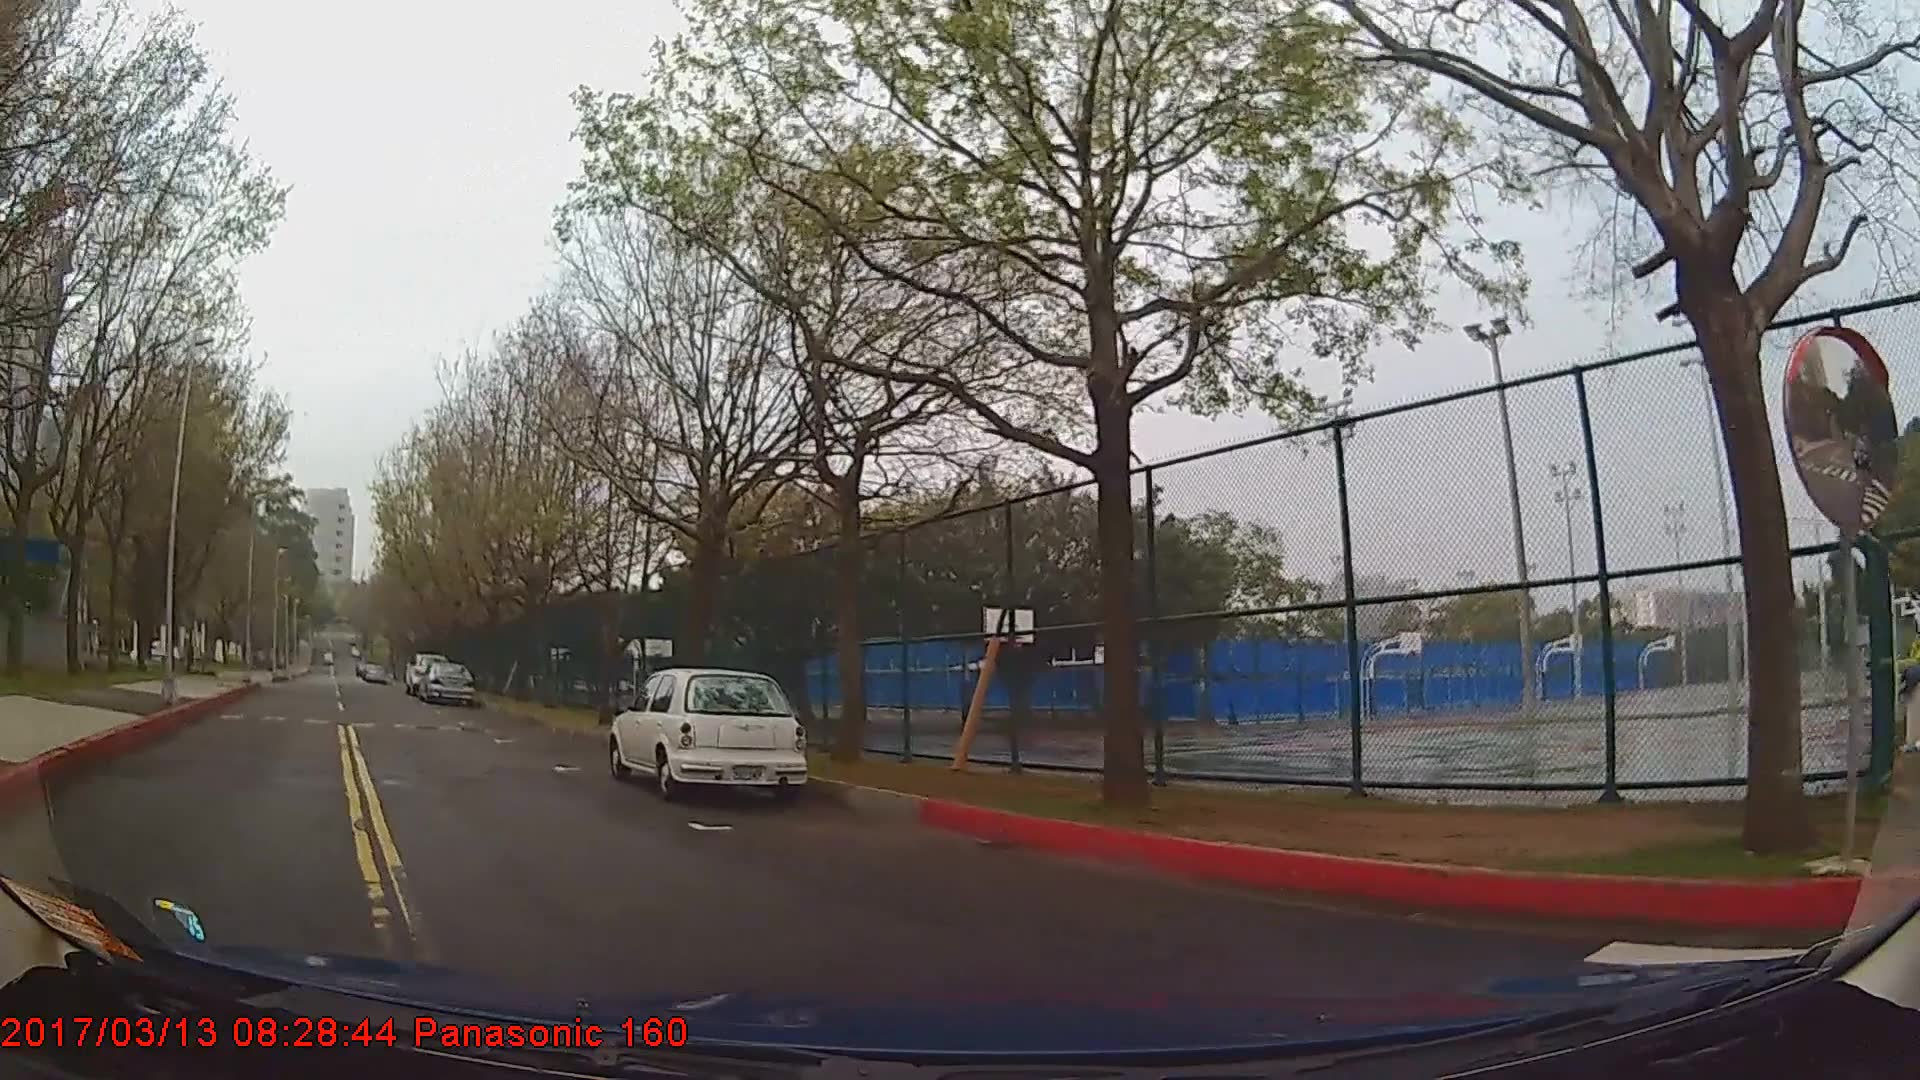vehicle: (609, 667, 808, 799), (414, 659, 473, 703)
